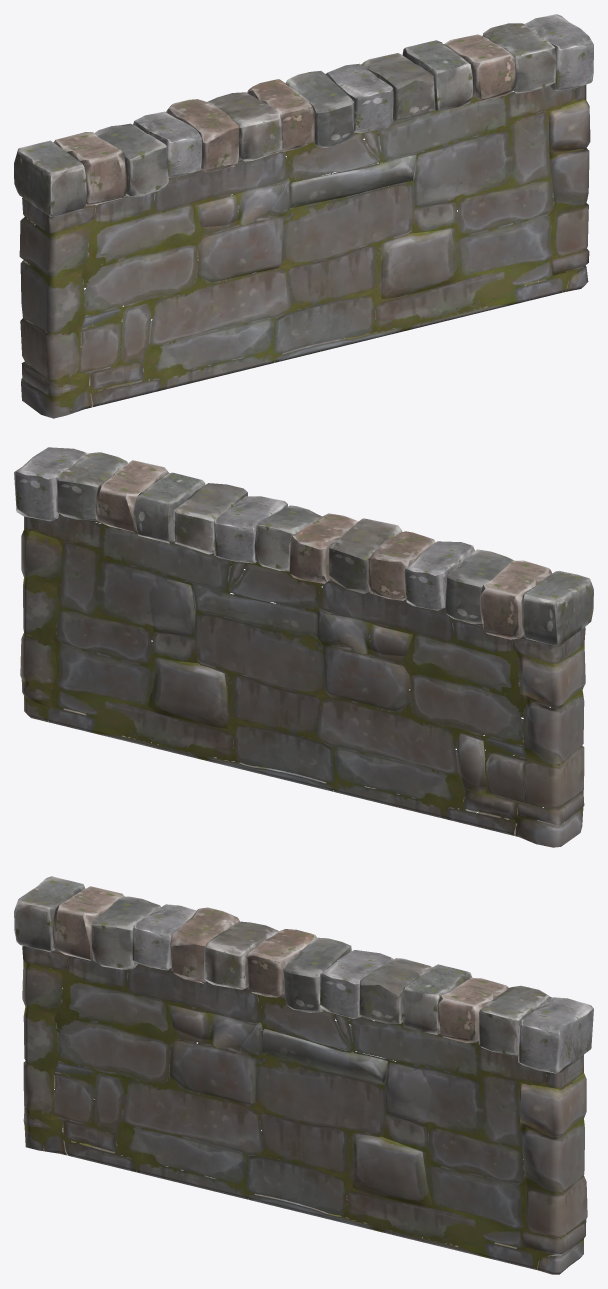
3 renders of one model, top to bottom at view 1: azimuth 30°, elevation 25°; view 2: azimuth 150°, elevation 25°; view 3: azimuth 330°, elevation 25°, orthographic.
Parts seen in each view (by area): view 1: SM_River_Bridge_Wall_01_v2_LOD0; view 2: SM_River_Bridge_Wall_01_v2_LOD0; view 3: SM_River_Bridge_Wall_01_v2_LOD0.
Part boxes in pixels (<box>): SM_River_Bridge_Wall_01_v2_LOD0: <box>14,14,593,418</box>; SM_River_Bridge_Wall_01_v2_LOD0: <box>14,447,593,847</box>; SM_River_Bridge_Wall_01_v2_LOD0: <box>14,876,593,1274</box>.
Bounding box in the file's own units: 4.05 × 1.81 × 0.517.
Materials: 2 (2 with a texture image).
